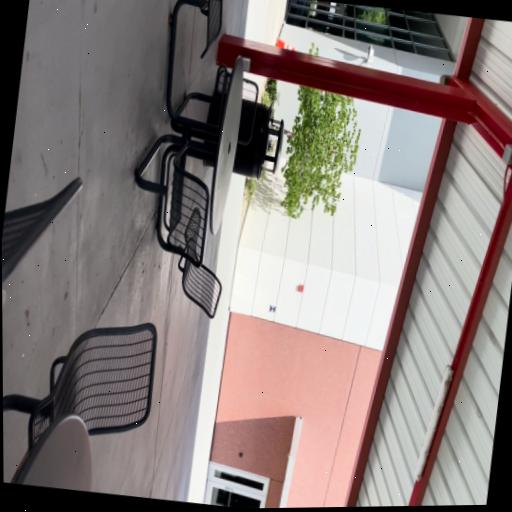target9: (269, 304, 276, 313)
